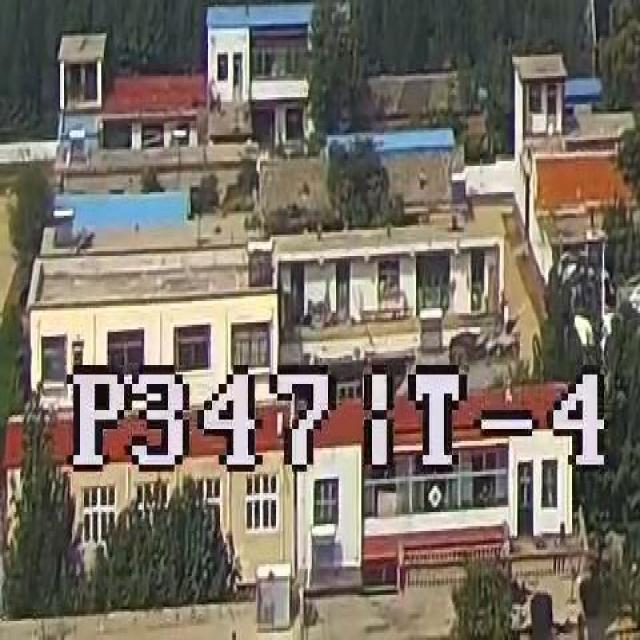other: (21, 378, 578, 465), (526, 146, 632, 216), (106, 49, 196, 125)
